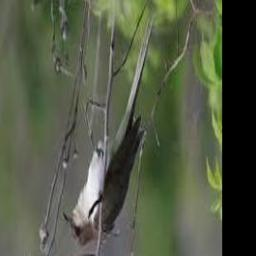Cuckoo: (63, 13, 155, 249)
